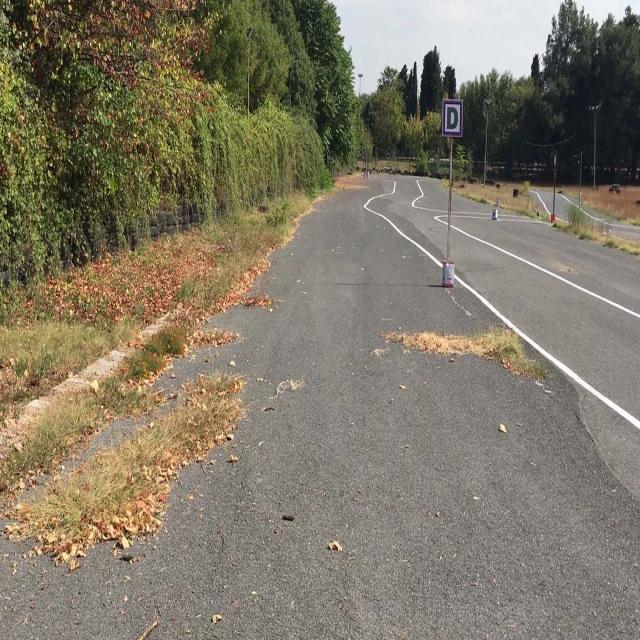durak: (443, 100, 462, 136)
